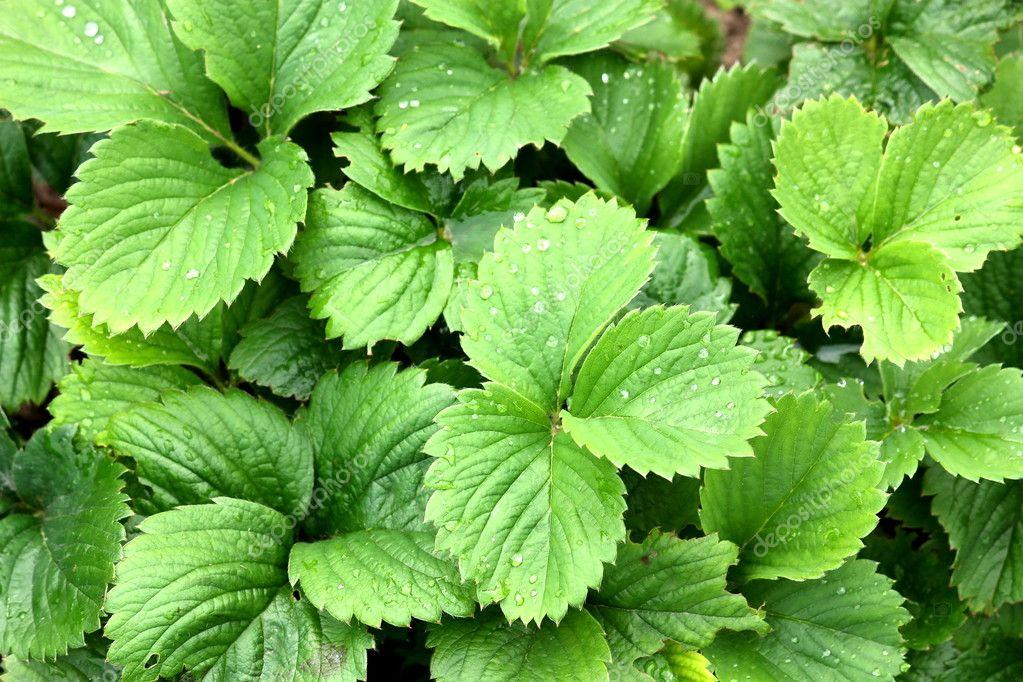Strawberry leaf: (279, 326, 531, 636), (46, 117, 319, 336), (443, 171, 662, 421), (427, 378, 633, 626), (575, 295, 780, 488), (364, 31, 602, 172), (798, 237, 983, 378), (872, 110, 1023, 271), (776, 87, 895, 263)
